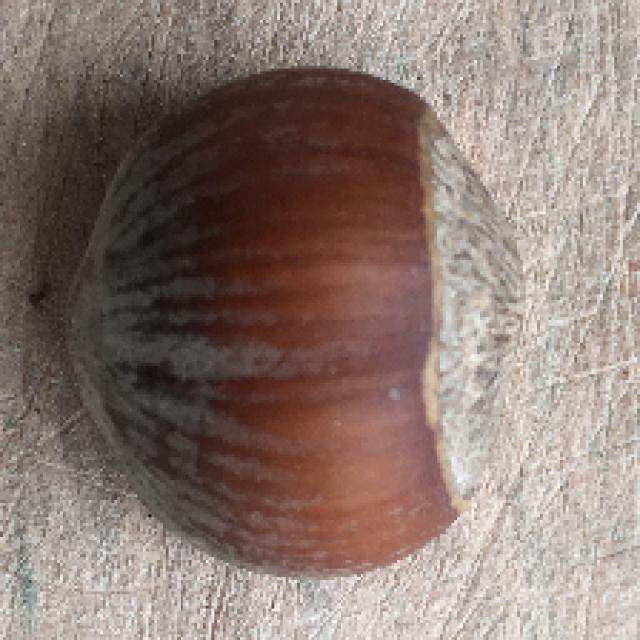qualityHazelnut: (48, 68, 521, 574)
